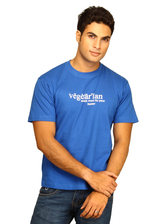clothoes: (30, 60, 146, 192)
